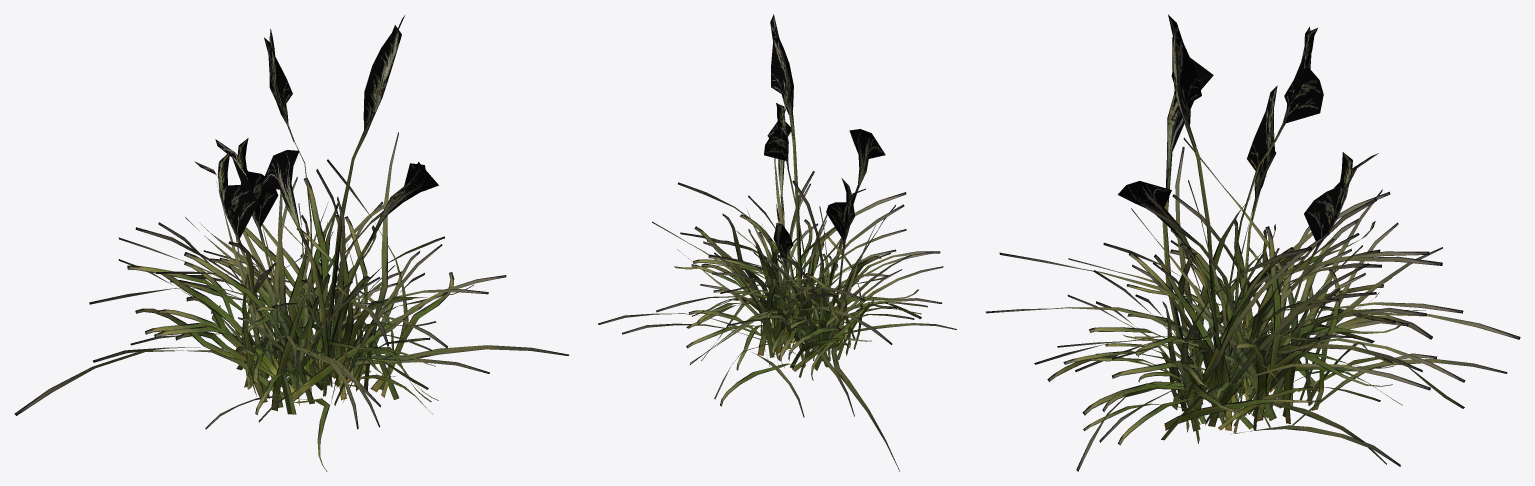
Rendered from grass_patch_mid_a.glb.
3 views of the same model, side by side, from view 1: azimuth 30°, elevation 25°; view 2: azimuth 150°, elevation 25°; view 3: azimuth 270°, elevation 25° (orthographic). The views are drawn at different scales.
Parts seen in each view (by area): view 1: grass_medium_01_mid_a_LOD0; view 2: grass_medium_01_mid_a_LOD0; view 3: grass_medium_01_mid_a_LOD0.
Part boxes in pixels (bbox=[...]): grass_medium_01_mid_a_LOD0: bbox=[14, 15, 568, 471]; grass_medium_01_mid_a_LOD0: bbox=[598, 14, 956, 471]; grass_medium_01_mid_a_LOD0: bbox=[985, 14, 1520, 471].
Size of the model in its own units: 0.2156 by 0.2177 by 0.2214.
Materials: 1 (1 with a texture image).
